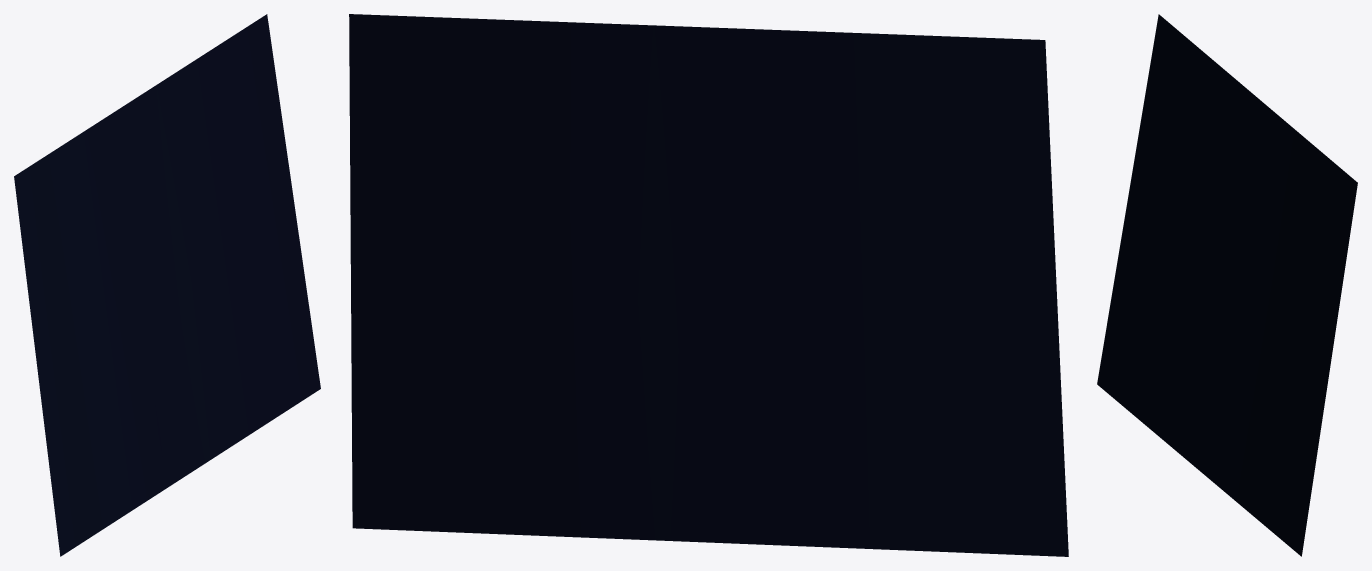
File: MS_WindowFrame.fbx
3 renders of one model, left to right at view 1: azimuth 30°, elevation 25°; view 2: azimuth 150°, elevation 25°; view 3: azimuth 270°, elevation 25°, orthographic. The views are drawn at different scales.
Parts seen in each view (by area): view 1: Plano Ventana.001; view 2: Plano Ventana.001; view 3: Plano Ventana.001.
Boxes of the visible parts, bbox=[...] form: Plano Ventana.001: bbox=[14, 14, 320, 556]; Plano Ventana.001: bbox=[349, 14, 1068, 556]; Plano Ventana.001: bbox=[1097, 14, 1357, 556].
Bounding box in the file's own units: 1400 × 1292 × 834.
1 material, 1 textured.
